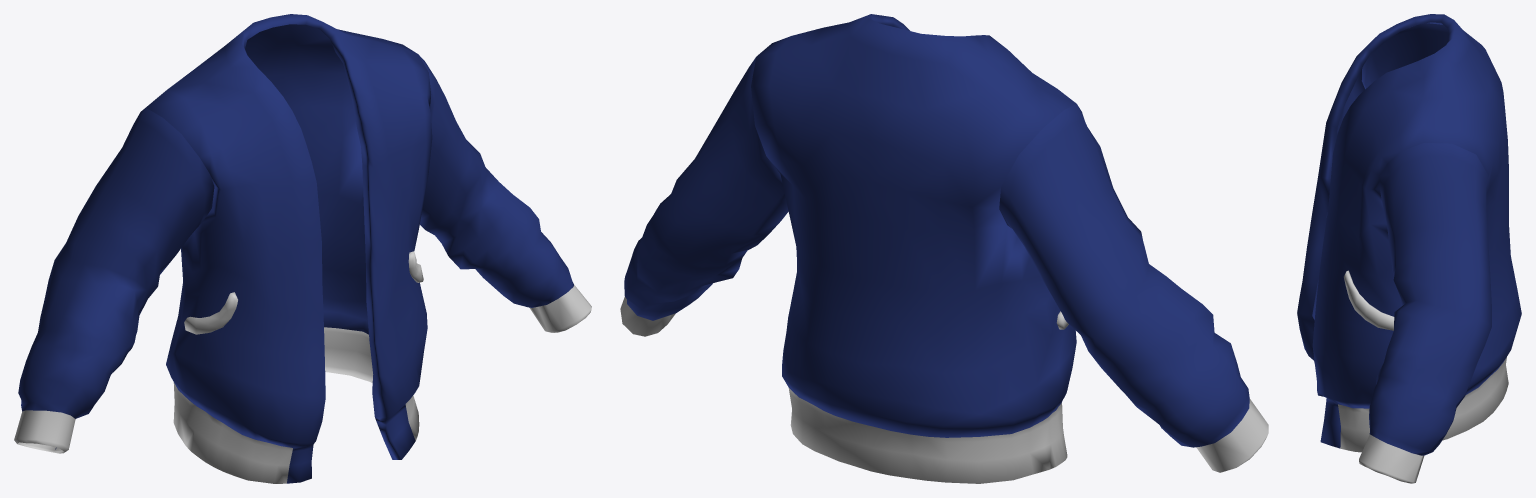
File: bomder 1.fbx
3 renders of one model, left to right at view 1: azimuth 30°, elevation 25°; view 2: azimuth 150°, elevation 25°; view 3: azimuth 270°, elevation 25°, orthographic. The views are drawn at different scales.
Visible parts, largest first — view 1: Wolf3D_Outfit_Top, Wolf3D_Outfit_Top.011, Wolf3D_Outfit_Top.012, Wolf3D_Outfit_Top.009; view 2: Wolf3D_Outfit_Top, Wolf3D_Outfit_Top.011, Wolf3D_Outfit_Top.012; view 3: Wolf3D_Outfit_Top, Wolf3D_Outfit_Top.011, Wolf3D_Outfit_Top.012, Wolf3D_Outfit_Top.010.
Part boxes in pixels (<box>): Wolf3D_Outfit_Top: <box>143,14,432,483</box>; Wolf3D_Outfit_Top.011: <box>18,54,573,449</box>; Wolf3D_Outfit_Top.012: <box>14,284,591,483</box>; Wolf3D_Outfit_Top.009: <box>184,292,237,334</box>; Wolf3D_Outfit_Top: <box>751,14,1076,437</box>; Wolf3D_Outfit_Top.011: <box>624,57,1249,447</box>; Wolf3D_Outfit_Top.012: <box>620,296,1268,483</box>; Wolf3D_Outfit_Top: <box>1297,14,1521,448</box>; Wolf3D_Outfit_Top.011: <box>1361,23,1491,455</box>; Wolf3D_Outfit_Top.012: <box>1338,357,1508,483</box>; Wolf3D_Outfit_Top.010: <box>1344,270,1394,330</box>.
Size of the model in its own units: 1703 by 1168 by 613.
